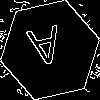A: (25, 25, 67, 77)
